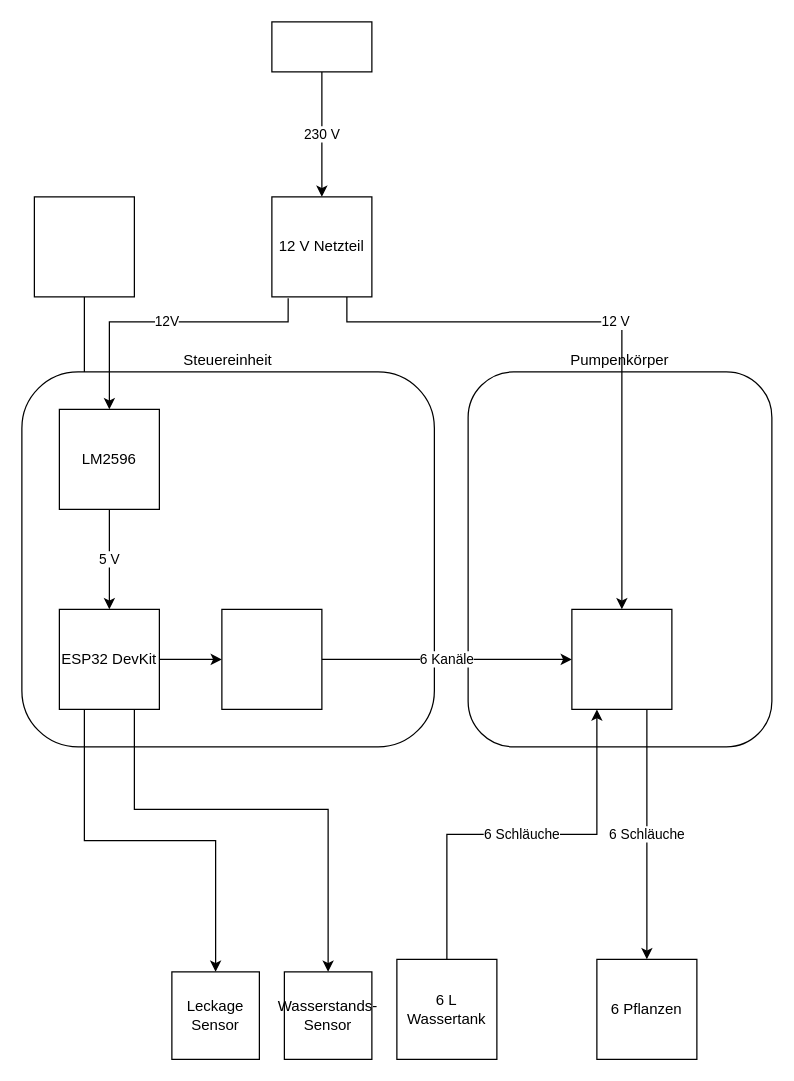
This 794x1081 diagram has some shape labels left out. Here are the shapes that lost their labels. From the top down, the centre of each, then its label:
At (x=321, y=46): "Steckdose".
At (x=83, y=246): "Home Assistant".
At (x=271, y=658): "MOSFET-Treiber".
At (x=621, y=658): "6 Pumpen".
